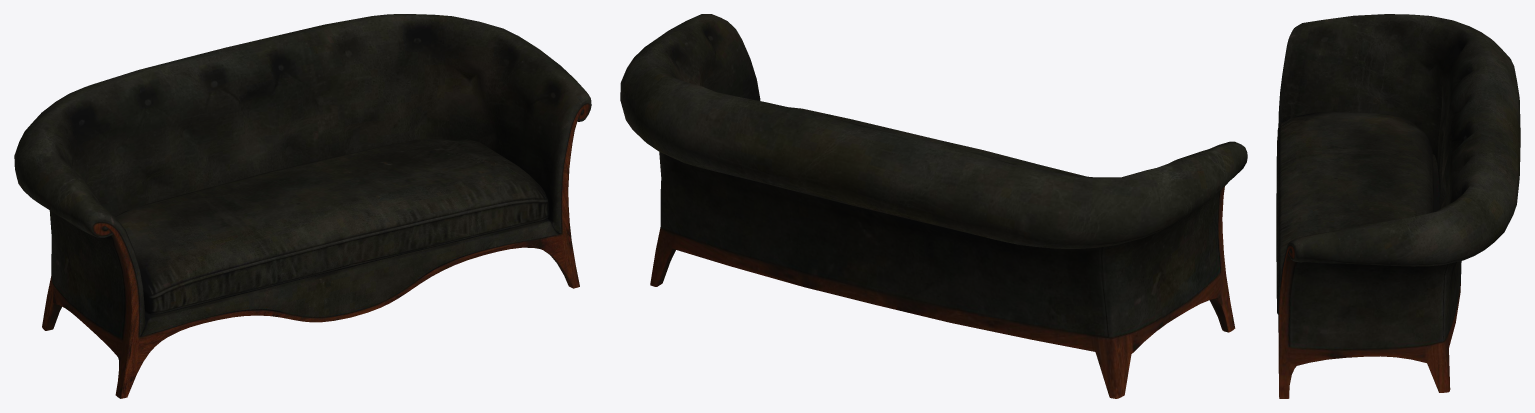
The model's file is sofa_02.glb.
3 renders of one model, left to right at view 1: azimuth 30°, elevation 25°; view 2: azimuth 150°, elevation 25°; view 3: azimuth 270°, elevation 25°, orthographic. The views are drawn at different scales.
Parts seen in each view (by area): view 1: sofa_02_Base, sofa_02_Seat; view 2: sofa_02_Base, sofa_02_Seat; view 3: sofa_02_Base, sofa_02_Seat.
Boxes of the visible parts, bbox=[...] form: sofa_02_Base: bbox=[14, 14, 591, 398]; sofa_02_Seat: bbox=[115, 139, 549, 314]; sofa_02_Base: bbox=[620, 14, 1247, 398]; sofa_02_Seat: bbox=[789, 107, 1086, 176]; sofa_02_Base: bbox=[1278, 14, 1520, 398]; sofa_02_Seat: bbox=[1276, 112, 1433, 314].
Size of the model in its own units: 1.81 by 0.7095 by 0.8178.
Materials: 1 (1 with a texture image).
